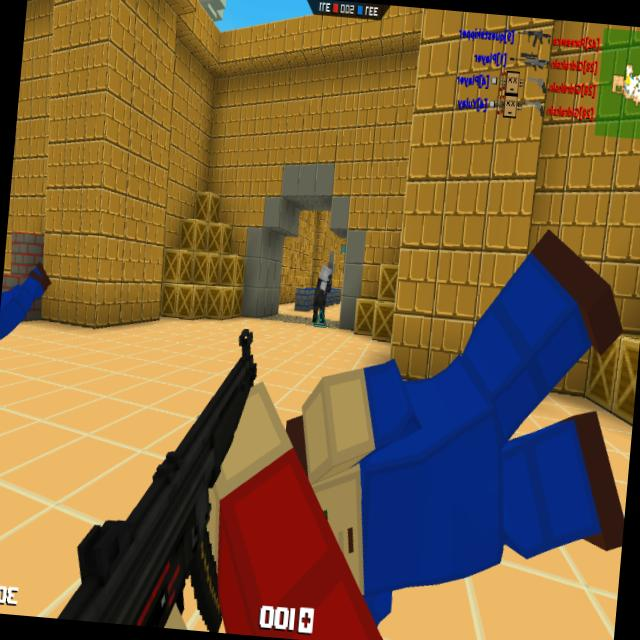enemy: (310, 263, 334, 324)
